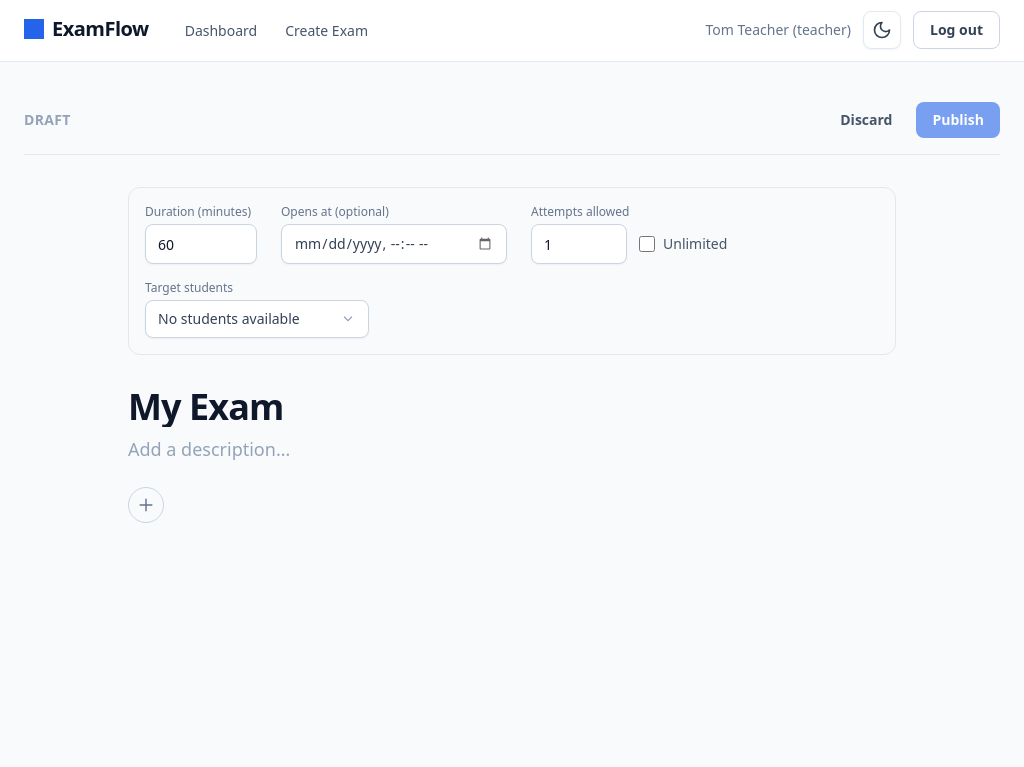
Scenario: exam editor (Medium-style) › adds a multiple-choice question via the + menu
Check: the field showing "My Exam" is shown, box left=128, top=387, right=896, bottom=427
Click the button named "add a question".
click(146, 505)  # box left=128, top=487, right=164, bottom=523
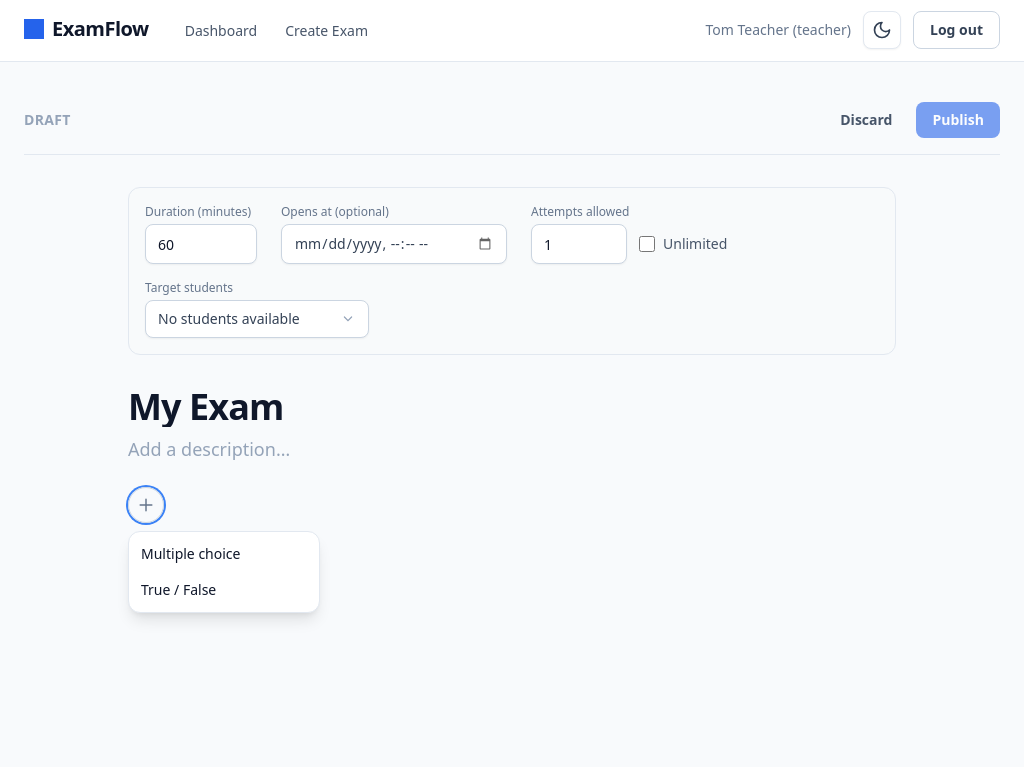
Click the menu item "Multiple choice".
click(224, 554)  # box left=129, top=536, right=319, bottom=572
(page scrolled)
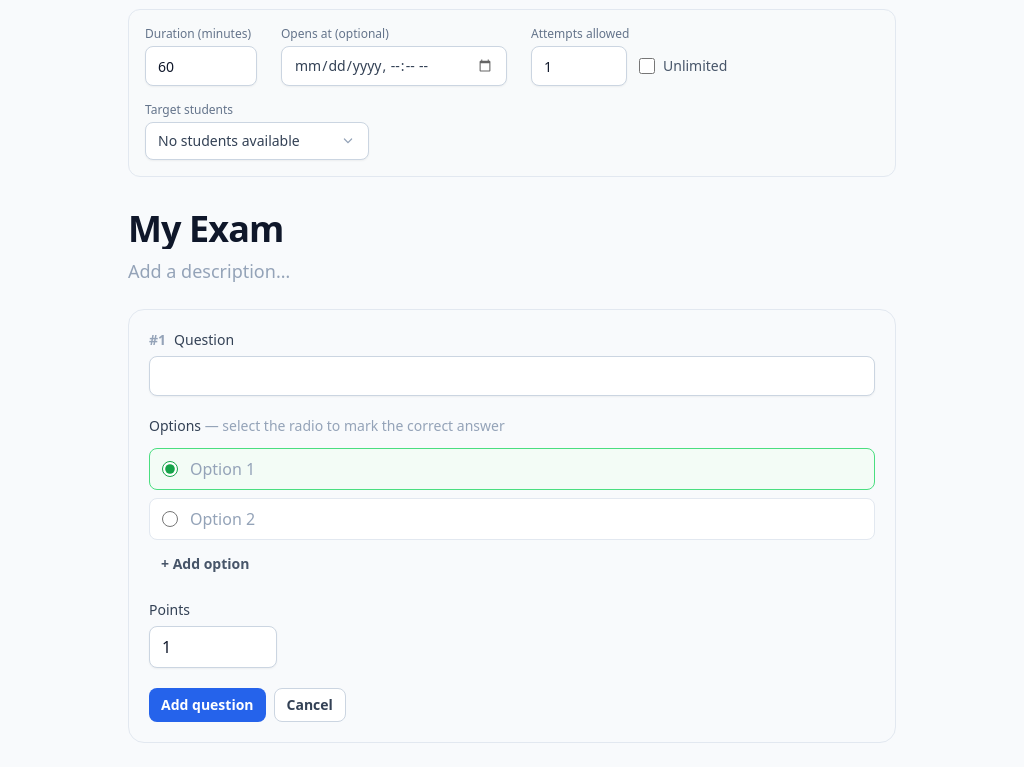
Type "Capital of France?" into the text box labelled "Question".
click(512, 376); type("Capital of France?")  # box left=149, top=356, right=875, bottom=396
Type "Paris" into the field labelled "Option 1".
click(526, 469); type("Paris")  # box left=190, top=457, right=862, bottom=481
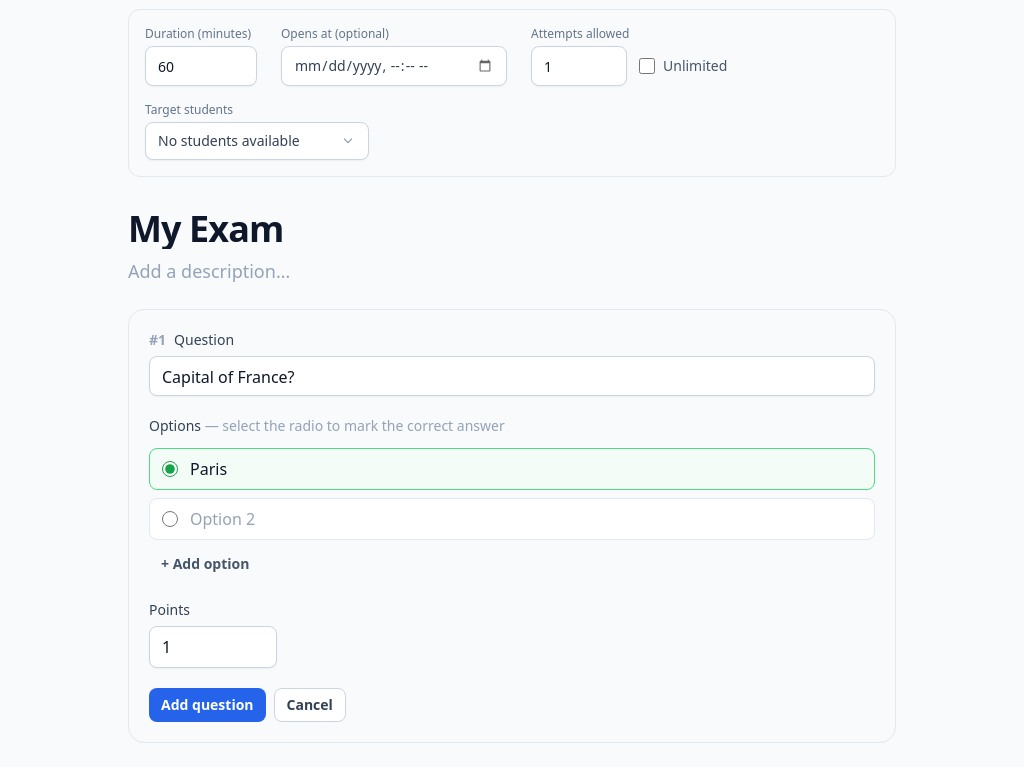
Type "Berlin" into the field labelled "Option 2".
click(526, 519); type("Berlin")  # box left=190, top=507, right=862, bottom=531
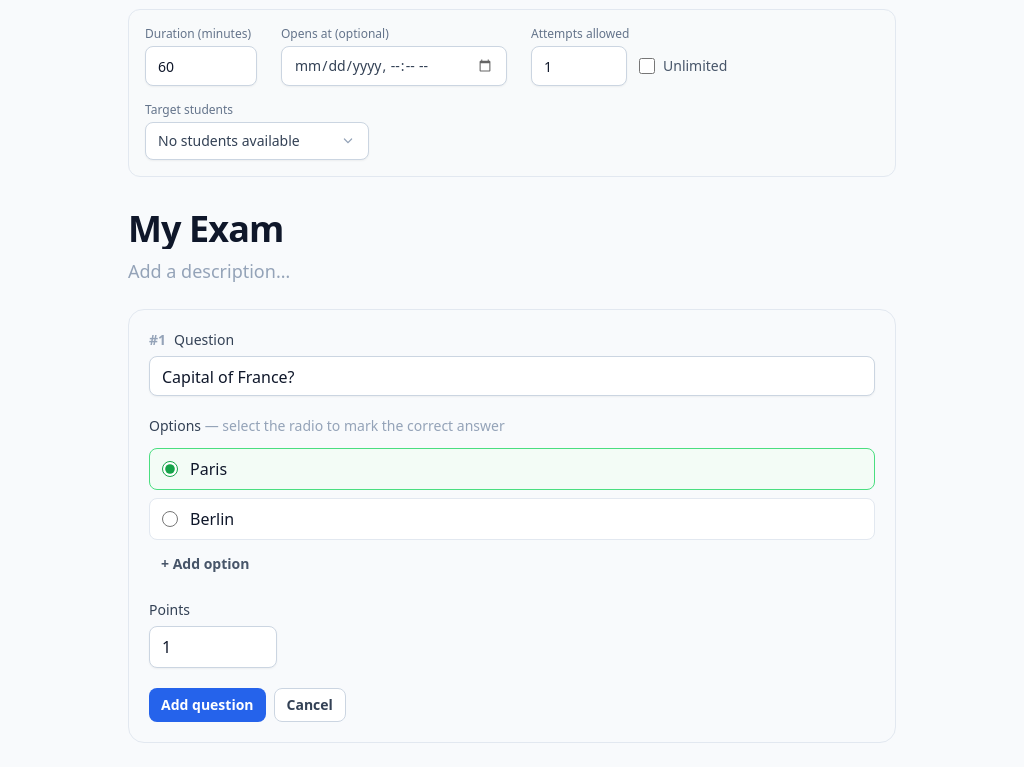
Click the radio button named "Mark option 1 as correct".
click(170, 469)  # box left=162, top=461, right=178, bottom=477
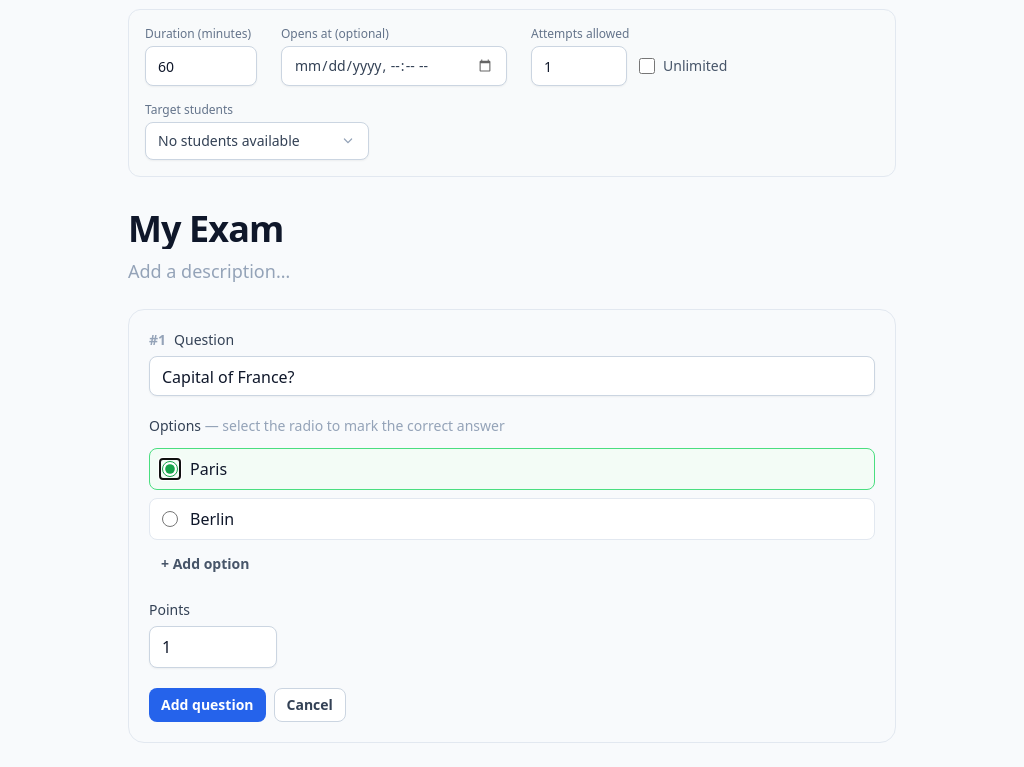
Click the button "Add question".
click(207, 705)  # box left=149, top=688, right=266, bottom=722
(page scrolled)
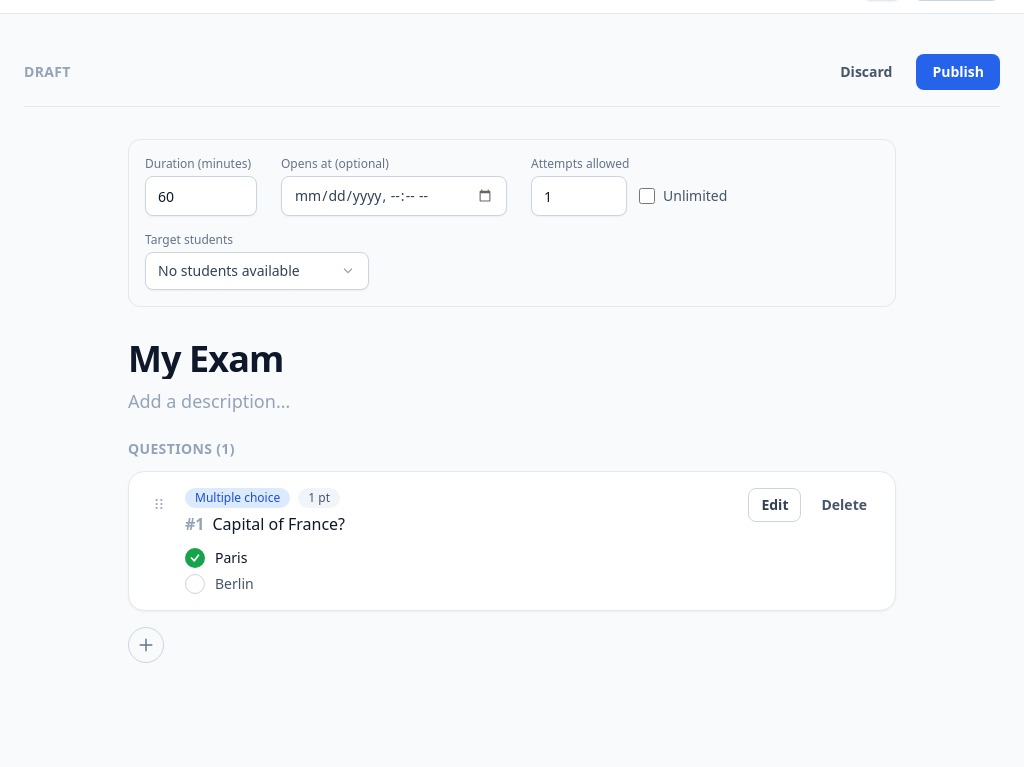
Check: the text "Capital of France?" is shown, box left=212, top=513, right=345, bottom=535
Check: the heading "Questions (1)" is shown, box left=128, top=439, right=235, bottom=458
